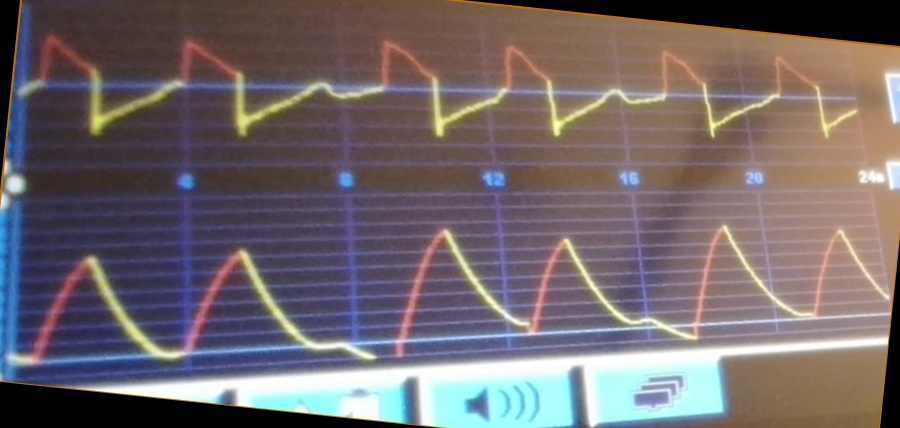Ineffective_effort Flow: (27, 24, 854, 146)
Ineffective_effort Volume: (21, 219, 887, 361)
